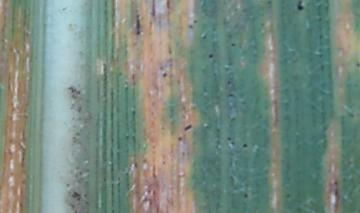tarspot: (133, 11, 142, 35), (294, 1, 306, 13), (150, 1, 158, 18), (139, 196, 153, 205), (183, 123, 193, 133), (151, 164, 157, 179), (240, 141, 249, 150), (229, 114, 237, 124), (154, 202, 161, 213), (164, 1, 171, 11), (227, 91, 235, 99), (187, 23, 194, 31), (225, 79, 233, 86), (201, 31, 206, 42), (176, 135, 183, 142), (355, 60, 360, 69), (207, 52, 213, 59), (161, 72, 167, 79), (242, 192, 248, 199), (285, 191, 291, 198), (161, 159, 167, 166), (181, 151, 187, 158), (192, 17, 197, 25), (230, 41, 236, 47), (152, 188, 156, 196), (229, 141, 235, 146), (226, 136, 232, 141), (147, 188, 151, 194)
